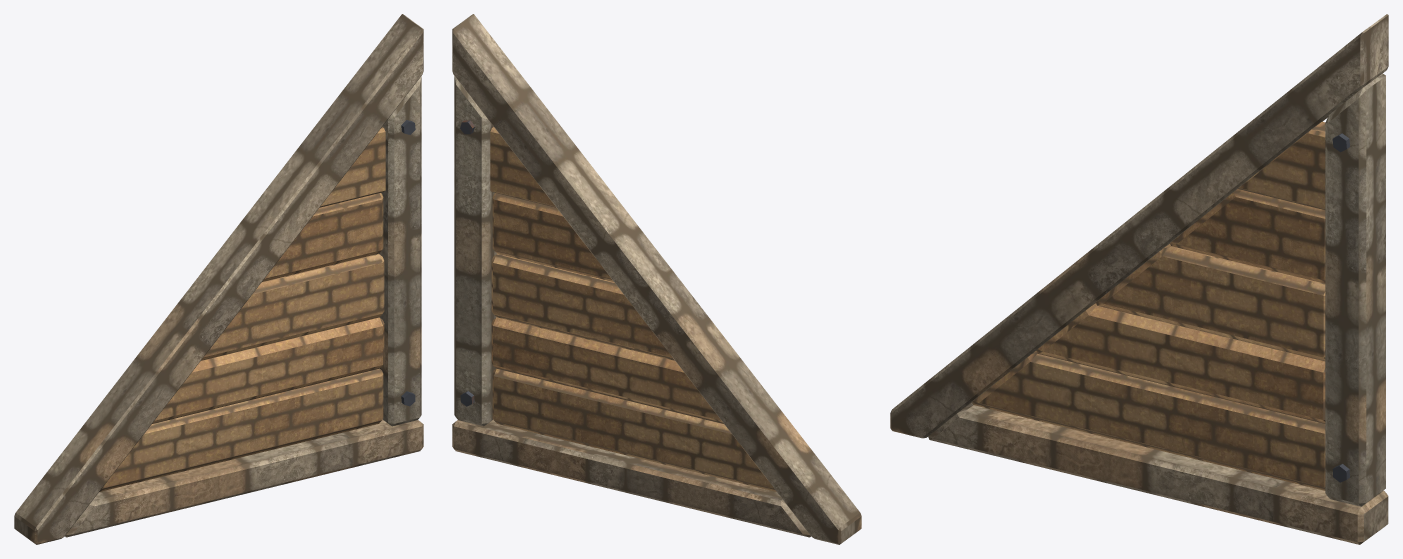
Rendered from ucgen_duvar.glb.
The picture shows the model from 3 angles, left to right: view 1: azimuth 30°, elevation 25°; view 2: azimuth 150°, elevation 25°; view 3: azimuth 330°, elevation 25°; orthographic projection. The views are drawn at different scales.
Parts seen in each view (by area): view 1: ucgen_duvar; view 2: ucgen_duvar; view 3: ucgen_duvar.
Part boxes in pixels (bbox=[...]): ucgen_duvar: bbox=[14, 14, 423, 544]; ucgen_duvar: bbox=[452, 14, 861, 544]; ucgen_duvar: bbox=[890, 14, 1388, 544].
Size of the model in its own units: 3 by 3.11 by 0.35.
1 material, 1 textured.
